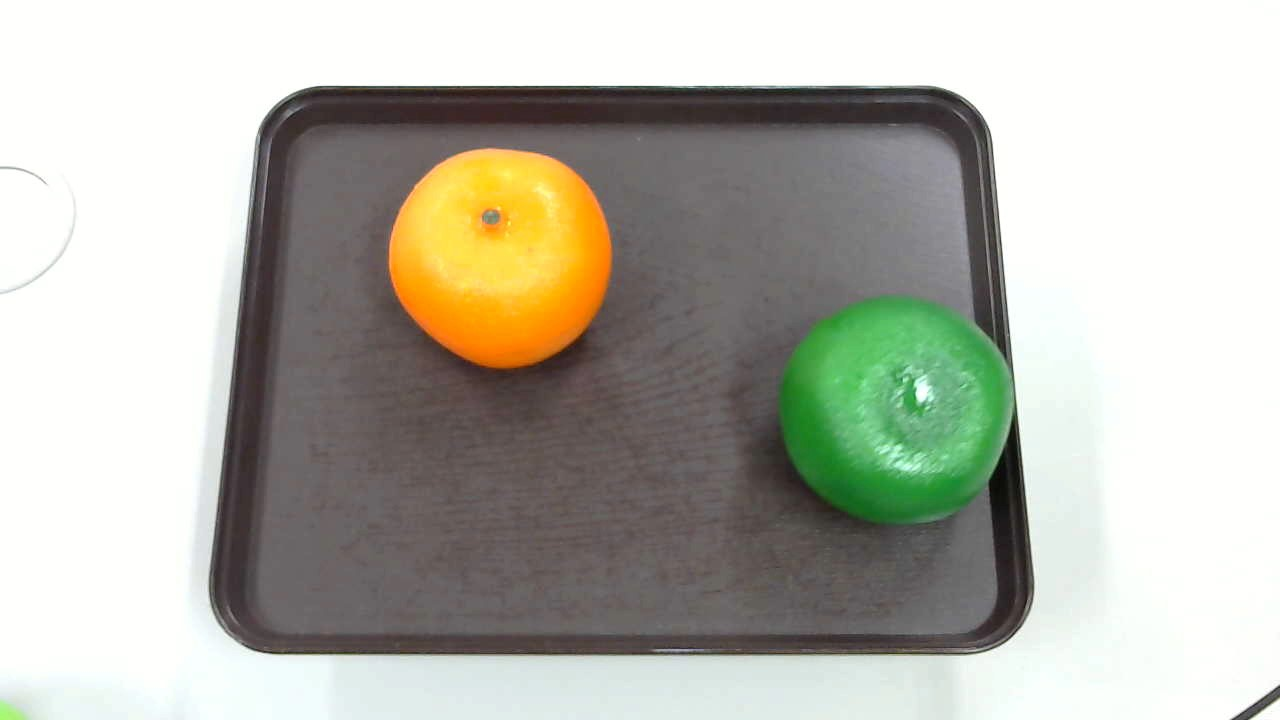green orange: (770, 288, 1021, 527)
orange: (387, 146, 609, 377)
